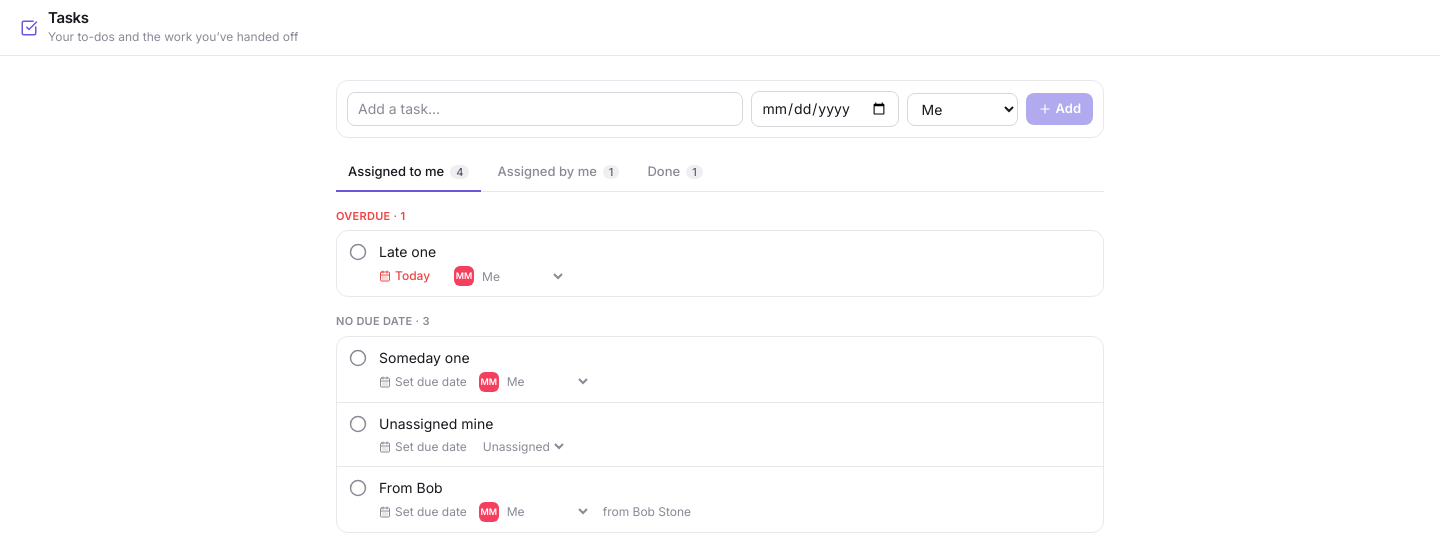
Scenario: TasksPane › splits tasks into mine / delegated / done and groups mine by due date
The image size is (1440, 550).
Expected: the button "Late one" is shown, [379,241,1057,262]
Expected: the heading "Overdue · 1" is shown, [336,208,405,222]
Click the tab with test id "tasks-tab-delegated".
click(558, 173)  # box [486,154,632,192]
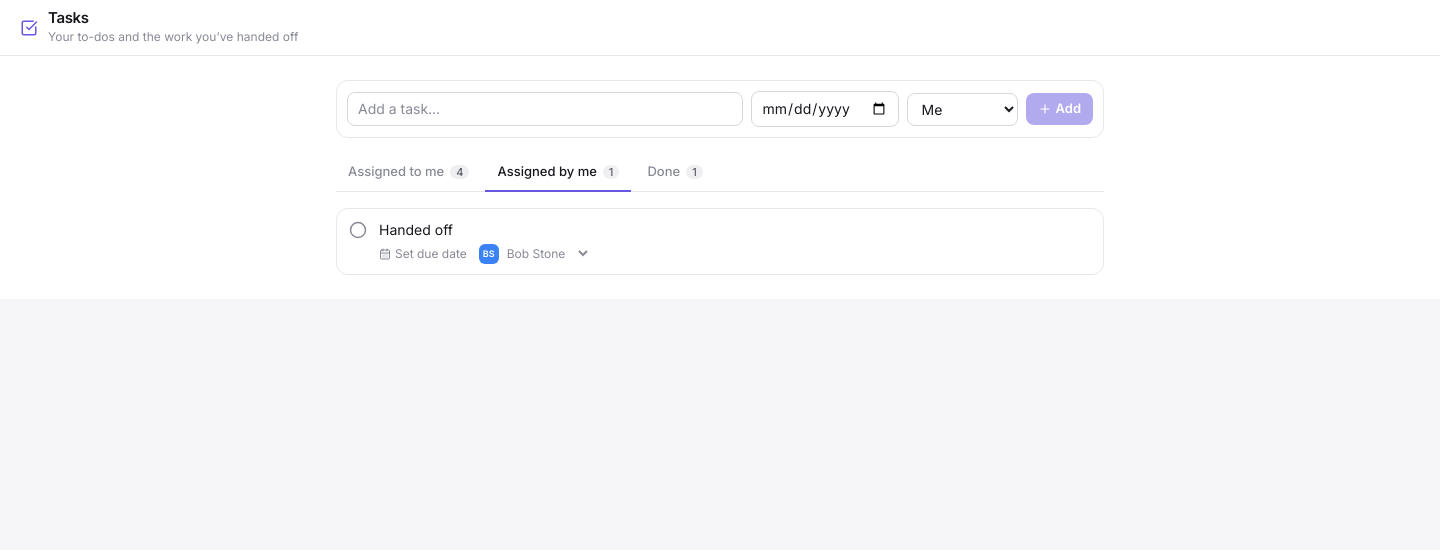
Expected: the button "Handed off" is shown, [379,218,1057,240]
Expected: the button "Late one" is gone
Click the tab with test id "tasks-tab-done".
click(675, 173)  # box [635,154,715,192]
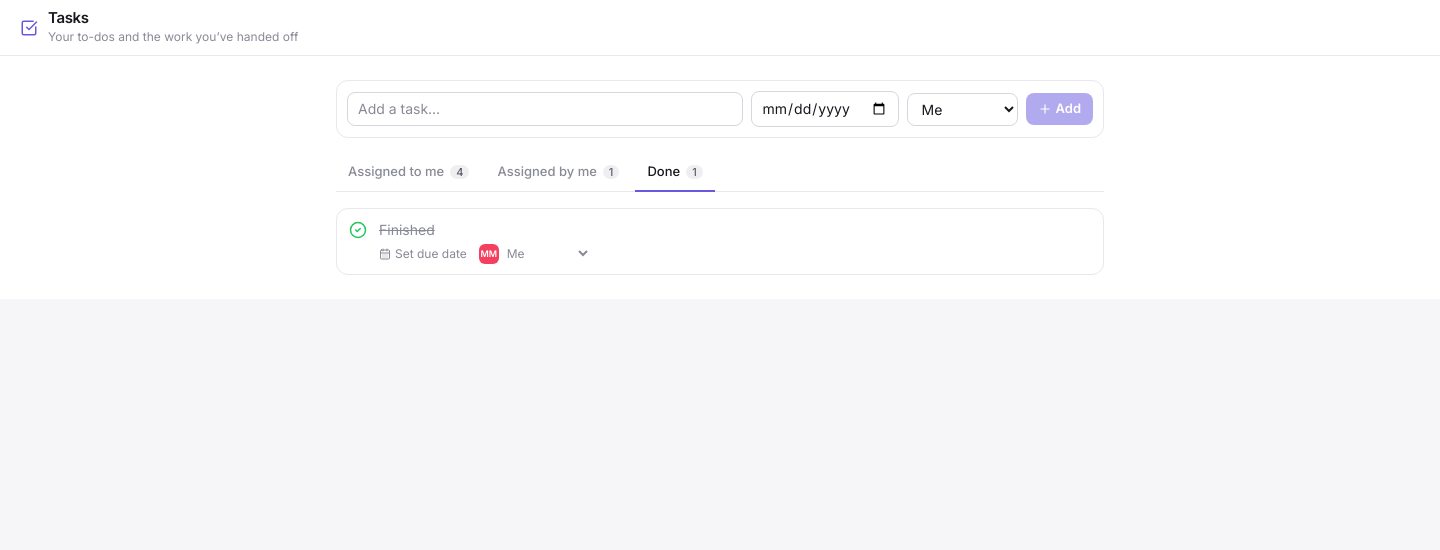
Expected: the button "Finished" is shown, [379,218,1057,240]
